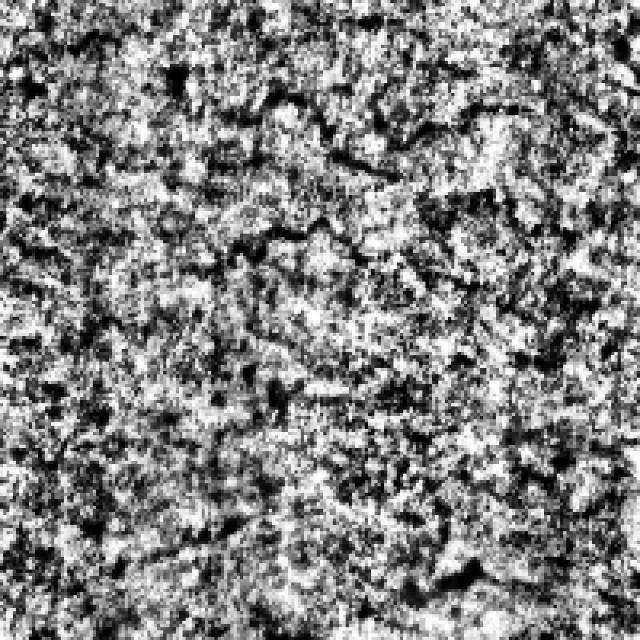Pitted_Surface: (35, 13, 563, 176), (7, 300, 278, 580), (0, 150, 416, 298)
